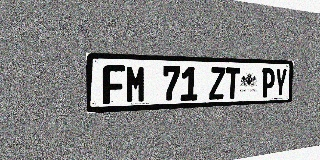1: (180, 66, 198, 101)
7: (161, 66, 180, 102)
F: (103, 65, 125, 104)
M: (126, 65, 146, 103)
P: (261, 68, 275, 98)
T: (225, 67, 240, 99)
Y: (274, 68, 287, 97)
Z: (209, 67, 225, 100)
